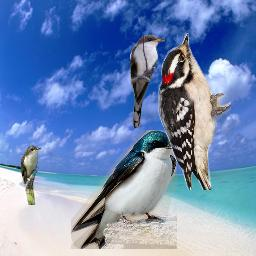Cuckoo: (129, 34, 165, 128), (21, 144, 41, 205)
Swallow: (71, 130, 177, 249)
Woodpecker: (158, 33, 231, 190)
